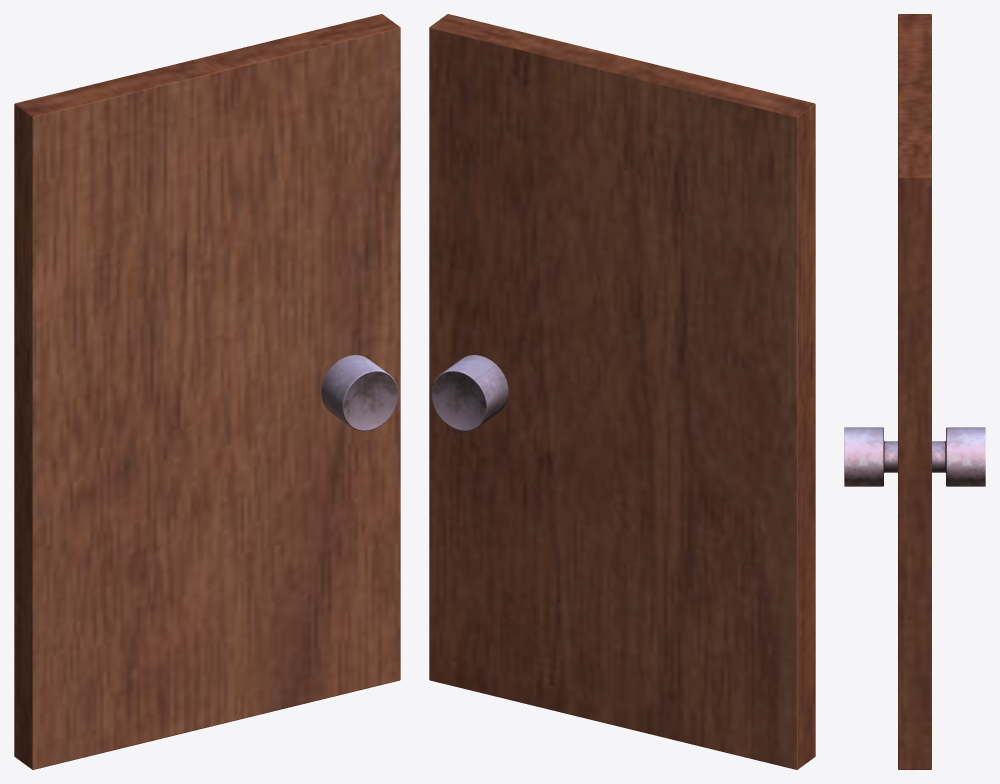
Rendered from Door.glb.
3 renders of one model, left to right at view 1: azimuth 30°, elevation 25°; view 2: azimuth 150°, elevation 25°; view 3: azimuth 270°, elevation 25°, orthographic. The views are drawn at different scales.
Parts seen in each view (by area): view 1: Door, Doorhandle; view 2: Door, Doorhandle; view 3: Door, Doorhandle.
Part boxes in pixels (left/top/right/bottom): Door: left=14, top=14, right=400, bottom=769; Doorhandle: left=321, top=355, right=398, bottom=431; Door: left=429, top=14, right=815, bottom=769; Doorhandle: left=431, top=355, right=508, bottom=431; Door: left=898, top=14, right=931, bottom=769; Doorhandle: left=844, top=427, right=985, bottom=486.
Bounding box in the file's own units: 1.7 × 2.88 × 0.623.
2 materials, 2 textured.
